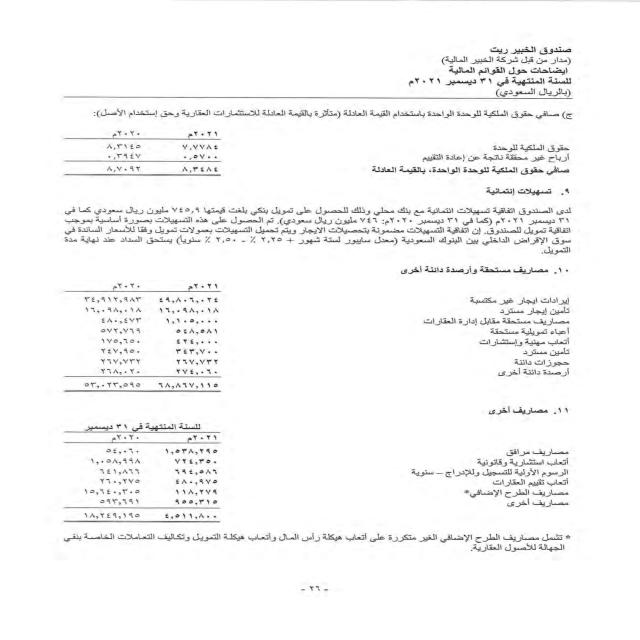notes: (424, 65, 576, 76)
table: (34, 277, 239, 398), (52, 415, 232, 526), (36, 128, 238, 188)
